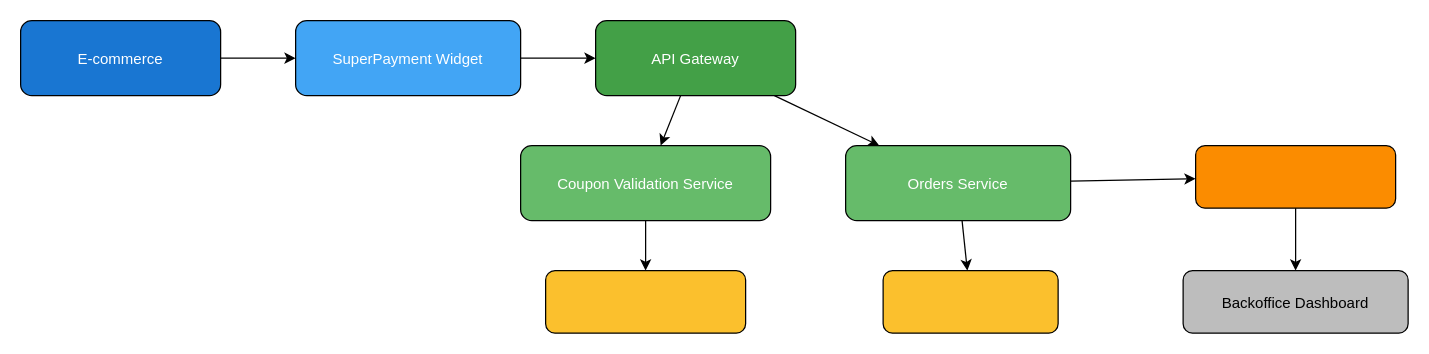
Image size: 1429x354. Some labels were removed from this diagram. The shapes that lost their labels are listed below. From the top down, each one's centre as x and y in pixels, then its label:
point (1295, 176): Event Bus
point (645, 301): Redis Cache
point (970, 301): PostgreSQL
